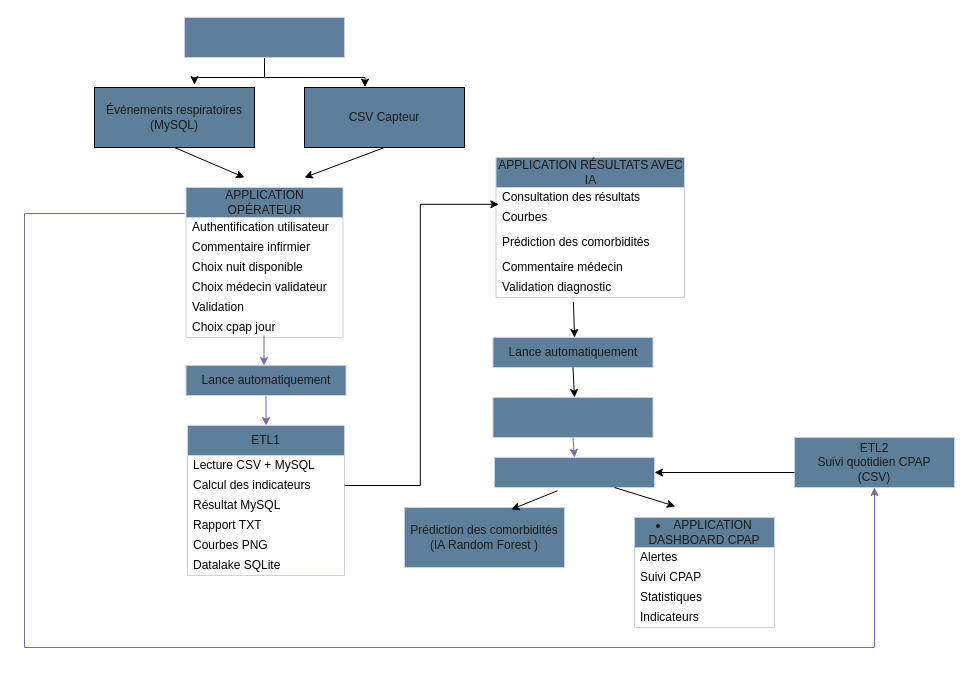
The diagram is 972 pixels wide and 673 high, and some of its shapes have lost their labels. The centre of each missing label's shape, as x and y in pixels:
BASE ANALYTIQUE (Modèle Galaxie): the point at 574,472
ETL3 Alimentation base analytique: the point at 572,417
Patient fait une nuit: the point at 264,37
